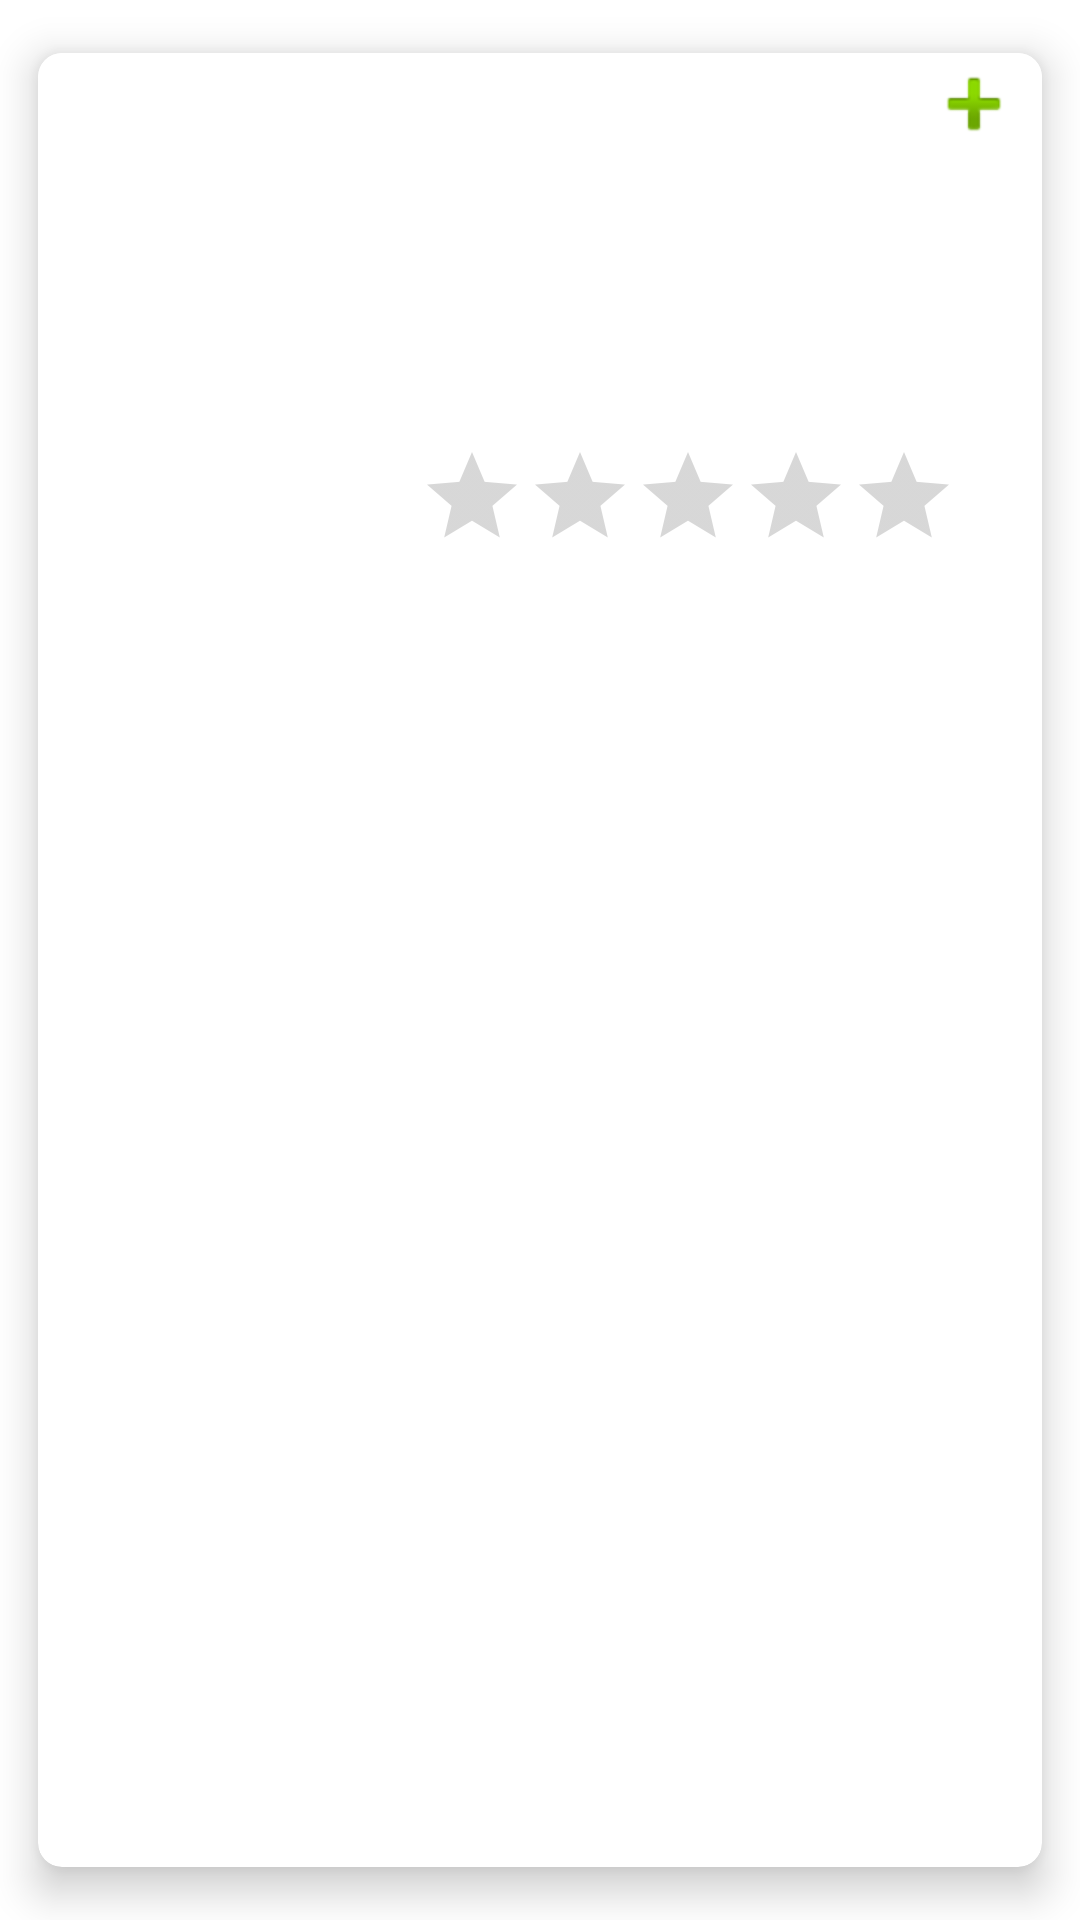

Named icons in this screenshot (1080 x 1920) and their centers, [x,y]:
Bottone aggiungi oggetto alla dispensa: [974,104]
